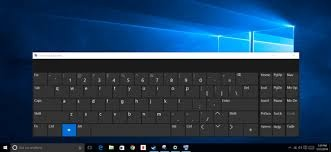keyboard: (31, 66, 299, 137)
